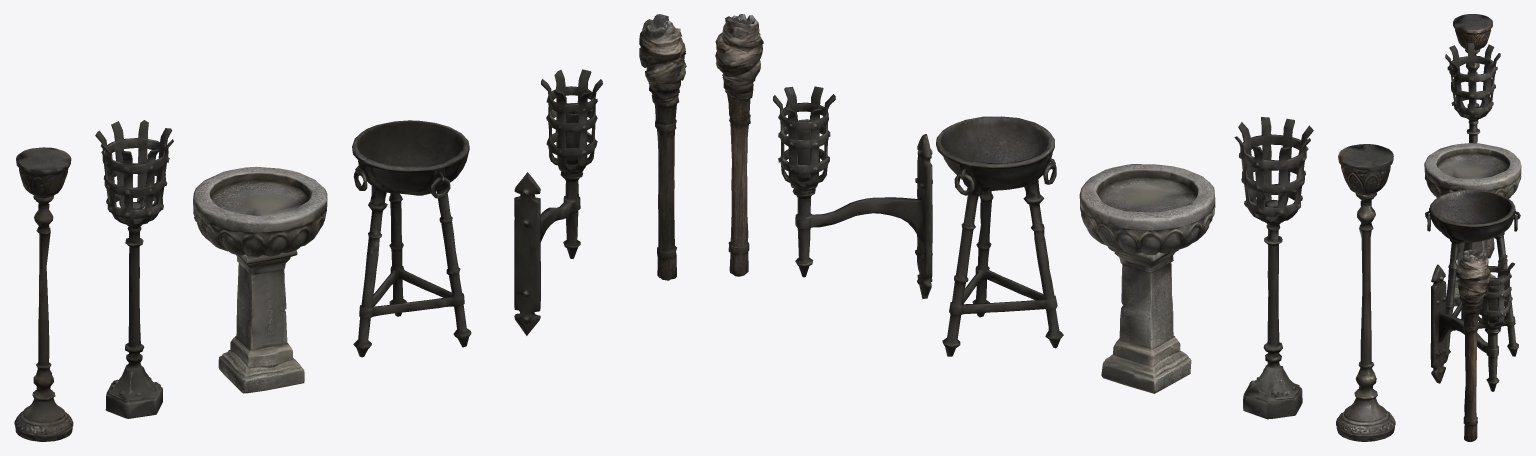
The model's file is lamps_torches_braziers.glb.
3 views of the same model, side by side, from view 1: azimuth 30°, elevation 25°; view 2: azimuth 150°, elevation 25°; view 3: azimuth 270°, elevation 25° (orthographic). The views are drawn at different scales.
Visible parts, largest first — view 1: fire_bowl_stone, brazier_tripod, torch_wall, fire_basket_pole, torch_pole, torch_hand; view 2: fire_bowl_stone, brazier_tripod, torch_wall, fire_basket_pole, torch_pole, torch_hand; view 3: brazier_tripod, fire_bowl_stone, torch_wall, torch_hand, fire_basket_pole, torch_pole.
Boxes of the visible parts, x1,y1,x2,y2 form: fire_bowl_stone: (193, 166, 327, 393); brazier_tripod: (352, 120, 471, 357); torch_wall: (514, 69, 602, 335); fire_basket_pole: (95, 120, 173, 418); torch_pole: (14, 147, 73, 441); torch_hand: (639, 14, 686, 280); fire_bowl_stone: (1079, 164, 1215, 393); brazier_tripod: (936, 116, 1063, 356); torch_wall: (773, 86, 932, 299); fire_basket_pole: (1234, 117, 1313, 419); torch_pole: (1336, 144, 1395, 441); torch_hand: (715, 14, 763, 276); brazier_tripod: (1425, 190, 1520, 362); fire_bowl_stone: (1424, 143, 1521, 306); torch_wall: (1430, 254, 1514, 391); torch_hand: (1456, 249, 1489, 441); fire_basket_pole: (1445, 42, 1500, 258); torch_pole: (1453, 14, 1492, 142).
Bounding box in the file's own units: 1.26 × 0.4939 × 0.2189.
Materials: 1 (1 with a texture image).
